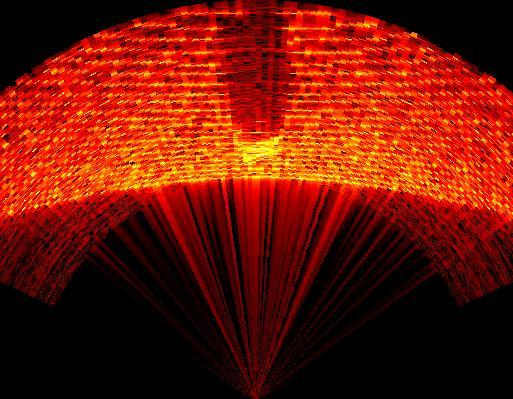box_crate: (216, 8, 290, 146)
